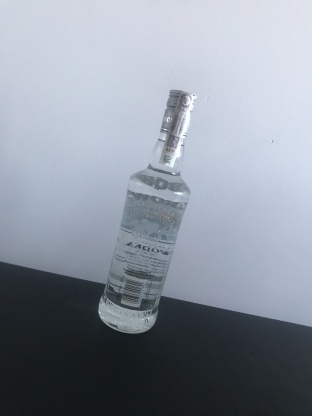nakretka: (157, 86, 198, 142)
